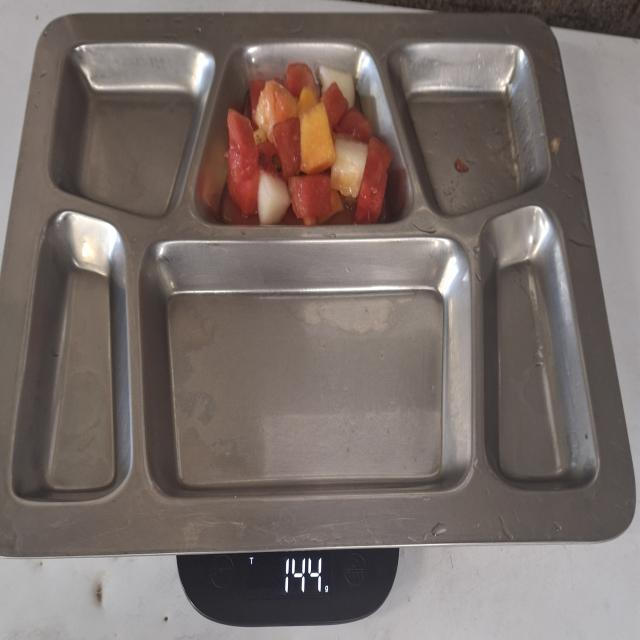Salad: (221, 59, 396, 228)
